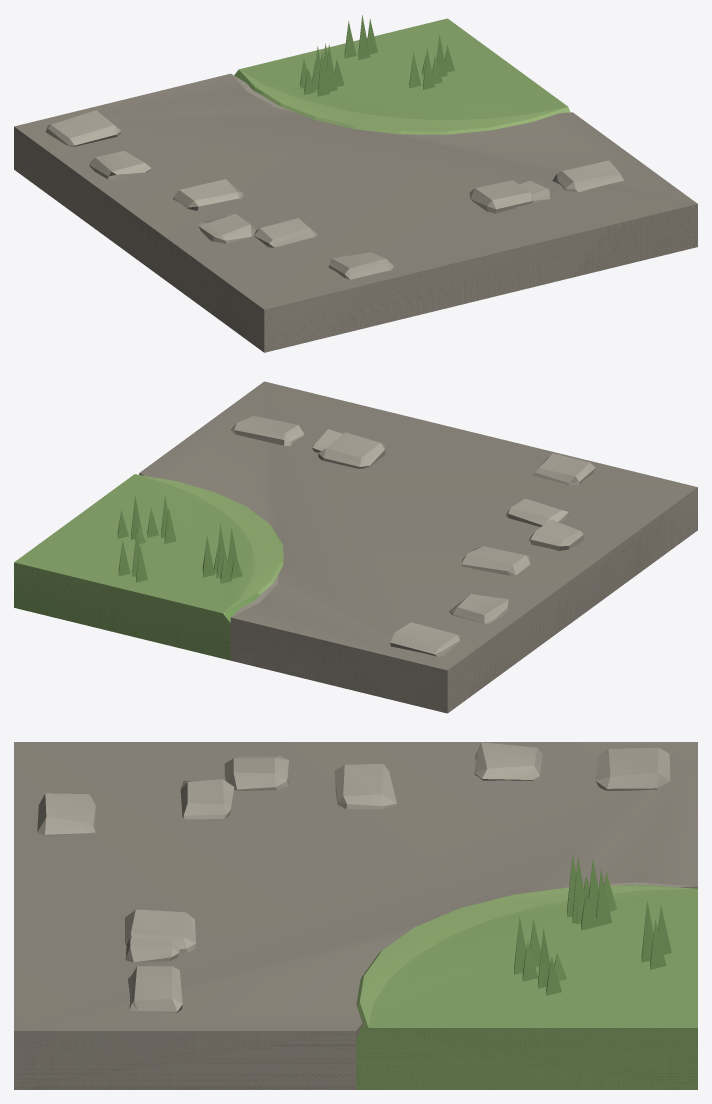
File: terrain.cobble.inner.glb
3 views of the same model, one above another, from view 1: azimuth 30°, elevation 25°; view 2: azimuth 150°, elevation 25°; view 3: azimuth 270°, elevation 25° (orthographic). The views are drawn at different scales.
Parts seen in each view (by area): view 1: terrain.cobble.inner.v1.mesh, terrain.cobble.inner.v0.mesh, terrain.cobble.inner.v2.mesh; view 2: terrain.cobble.inner.v1.mesh, terrain.cobble.inner.v0.mesh, terrain.cobble.inner.v2.mesh; view 3: terrain.cobble.inner.v1.mesh, terrain.cobble.inner.v0.mesh, terrain.cobble.inner.v2.mesh.
Part boxes in pixels (x1,y1,x2,y2): terrain.cobble.inner.v1.mesh: (14, 44, 697, 352); terrain.cobble.inner.v0.mesh: (14, 18, 697, 352); terrain.cobble.inner.v2.mesh: (14, 15, 697, 345); terrain.cobble.inner.v1.mesh: (14, 381, 697, 712); terrain.cobble.inner.v0.mesh: (14, 429, 697, 713); terrain.cobble.inner.v2.mesh: (14, 416, 697, 695); terrain.cobble.inner.v1.mesh: (14, 742, 697, 1089); terrain.cobble.inner.v0.mesh: (14, 763, 697, 1089); terrain.cobble.inner.v2.mesh: (28, 793, 693, 1089).
Bounding box in the file's own units: 1 × 0.2036 × 1.
